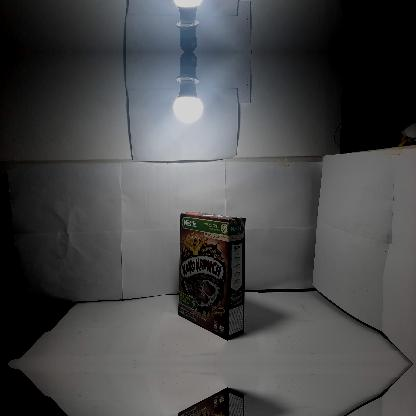Koko-Krunch: (178, 210, 246, 340), (178, 388, 247, 415)
